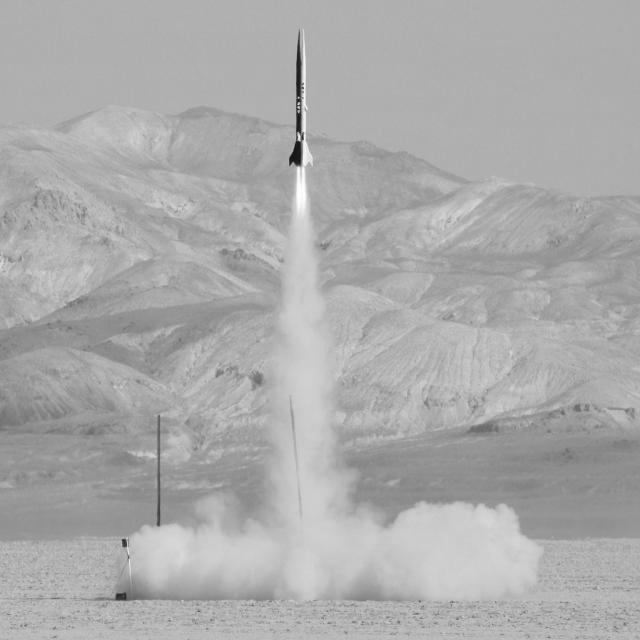missile: (289, 25, 316, 170)
